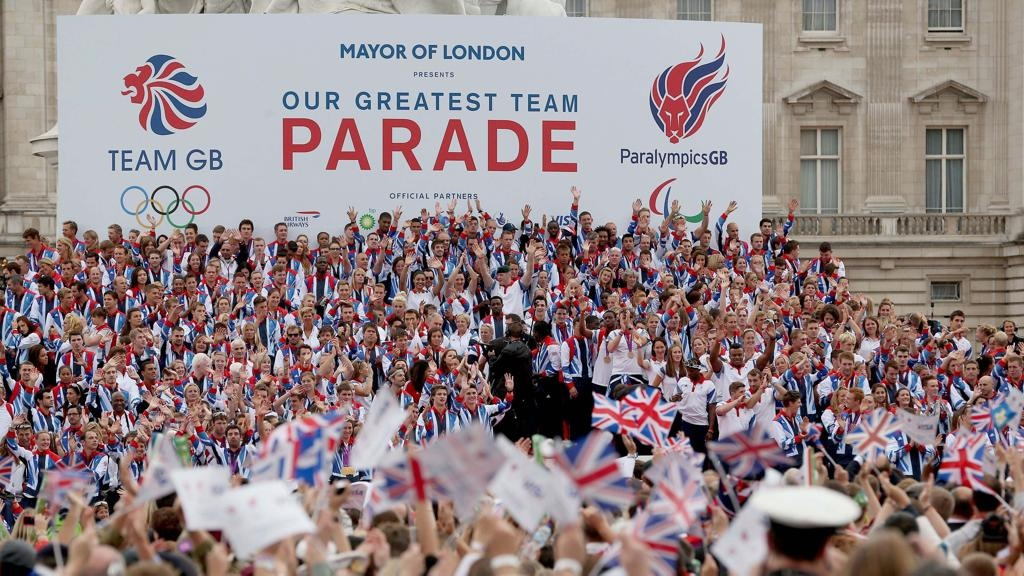human_face: (36, 433, 50, 449), (318, 356, 332, 372), (730, 349, 744, 365), (112, 394, 124, 412), (84, 430, 96, 448), (226, 428, 238, 446), (788, 398, 802, 412), (20, 364, 32, 380), (104, 367, 116, 383), (144, 362, 156, 378), (186, 384, 198, 400), (18, 428, 30, 444), (232, 342, 244, 358), (268, 290, 280, 306), (404, 312, 416, 328), (340, 421, 352, 437), (435, 388, 447, 404), (378, 216, 390, 232), (452, 272, 464, 288), (965, 362, 977, 378), (840, 358, 852, 374), (749, 373, 761, 389), (926, 379, 938, 395), (836, 388, 848, 404), (886, 367, 898, 383), (67, 408, 79, 423), (114, 351, 126, 366), (194, 336, 206, 351), (392, 300, 404, 315), (647, 315, 659, 330), (464, 387, 476, 402), (843, 338, 855, 353), (134, 332, 146, 346), (172, 363, 184, 377), (97, 506, 109, 520), (214, 418, 226, 432), (14, 259, 26, 273), (60, 263, 72, 277), (234, 277, 246, 291), (316, 257, 328, 271), (364, 326, 376, 340), (372, 309, 384, 323), (394, 360, 406, 374), (302, 375, 314, 389), (490, 298, 502, 312), (554, 308, 566, 322), (596, 231, 608, 245), (608, 251, 620, 265), (668, 313, 680, 327), (750, 257, 762, 271), (822, 312, 834, 326), (950, 316, 964, 328), (864, 319, 876, 333), (807, 322, 819, 336), (793, 358, 805, 372), (1007, 361, 1019, 375), (38, 348, 48, 364), (199, 358, 209, 374), (214, 354, 224, 370), (194, 304, 204, 320), (535, 299, 545, 315), (70, 334, 82, 347), (163, 373, 175, 386), (680, 240, 692, 253), (391, 320, 401, 335), (394, 369, 404, 384), (408, 405, 418, 420), (106, 228, 118, 240), (196, 240, 208, 252), (252, 240, 264, 252), (339, 389, 351, 401), (438, 236, 450, 248), (818, 248, 830, 260), (706, 333, 718, 345), (978, 380, 990, 392), (232, 370, 244, 382), (42, 392, 52, 406), (66, 388, 76, 402), (60, 368, 70, 382), (16, 320, 26, 334), (130, 311, 140, 325), (172, 330, 182, 344), (134, 442, 144, 456), (36, 280, 46, 294), (90, 268, 100, 282), (148, 288, 158, 302), (150, 253, 160, 267), (114, 248, 124, 262), (256, 390, 266, 404), (244, 324, 254, 338), (268, 380, 278, 394), (288, 328, 298, 342), (172, 235, 182, 249), (185, 228, 195, 242), (190, 254, 200, 268), (173, 278, 183, 292), (186, 277, 196, 291), (206, 266, 216, 280), (221, 244, 231, 258), (252, 272, 262, 286), (256, 301, 266, 315), (277, 225, 287, 239), (329, 243, 339, 257), (358, 254, 368, 268), (368, 234, 378, 248), (342, 307, 352, 321), (338, 284, 348, 298), (373, 286, 383, 300), (430, 331, 440, 345), (426, 308, 436, 322), (237, 418, 247, 432), (468, 238, 478, 252), (414, 274, 424, 288), (423, 271, 433, 285), (480, 326, 490, 340), (497, 270, 507, 284), (535, 290, 545, 304), (558, 248, 568, 262), (574, 320, 584, 334), (620, 313, 630, 327), (640, 211, 650, 225), (694, 338, 704, 352), (664, 294, 674, 308), (774, 262, 784, 276), (949, 360, 959, 374), (896, 350, 906, 364), (927, 342, 937, 356), (776, 358, 786, 372), (796, 333, 806, 347), (671, 346, 681, 360), (734, 387, 744, 401), (898, 390, 908, 404), (874, 387, 884, 401), (863, 396, 873, 410), (635, 322, 645, 336), (831, 328, 841, 342), (919, 368, 929, 382), (144, 240, 154, 253), (396, 334, 406, 347), (430, 316, 440, 329), (434, 243, 444, 256), (91, 312, 101, 324), (103, 294, 113, 306), (39, 262, 49, 274), (71, 286, 81, 298), (85, 257, 95, 269), (116, 278, 126, 290), (136, 270, 146, 282), (102, 248, 114, 258), (62, 224, 72, 236), (260, 358, 270, 370), (218, 298, 228, 310), (212, 231, 222, 243), (241, 224, 251, 236), (274, 270, 284, 282), (276, 256, 286, 268), (296, 236, 306, 248), (300, 348, 310, 360), (320, 330, 330, 342), (302, 311, 312, 323), (304, 296, 314, 308), (446, 350, 456, 362), (450, 359, 460, 371), (394, 260, 404, 272), (410, 222, 420, 234), (468, 220, 478, 232), (450, 231, 460, 243), (456, 316, 466, 328), (504, 318, 514, 330), (538, 273, 548, 285), (486, 222, 496, 234), (502, 234, 512, 246), (532, 242, 542, 254), (548, 222, 558, 234), (567, 282, 577, 294), (604, 312, 614, 324), (601, 270, 611, 282), (580, 214, 590, 226), (607, 225, 617, 237), (655, 340, 665, 352), (623, 236, 633, 248), (640, 252, 650, 264), (698, 318, 708, 330), (675, 218, 685, 230), (700, 233, 710, 245), (728, 224, 738, 236), (752, 236, 762, 248), (761, 222, 771, 234), (733, 278, 743, 290), (729, 288, 739, 300), (838, 278, 848, 290), (900, 332, 910, 344), (880, 304, 890, 316), (756, 315, 766, 327), (746, 331, 754, 346), (780, 286, 790, 298), (846, 392, 854, 407), (606, 297, 616, 309), (976, 399, 986, 411), (64, 292, 72, 306), (126, 436, 134, 450), (8, 278, 16, 292), (290, 396, 298, 410), (508, 263, 516, 277), (975, 326, 983, 340), (726, 316, 734, 330), (442, 306, 452, 317), (805, 284, 815, 295), (800, 313, 810, 324), (334, 340, 344, 351), (63, 316, 71, 329), (56, 240, 64, 253), (295, 240, 303, 253), (792, 298, 800, 311), (24, 236, 34, 246), (277, 369, 287, 379), (600, 292, 610, 302), (626, 274, 636, 284), (686, 367, 696, 377), (318, 233, 328, 243), (84, 234, 92, 246), (128, 232, 136, 244), (197, 404, 205, 416), (232, 384, 240, 396), (210, 260, 218, 272), (354, 270, 362, 282), (346, 226, 354, 238), (591, 318, 599, 330), (588, 237, 596, 249), (532, 328, 540, 340), (642, 238, 650, 250), (696, 254, 704, 266), (736, 258, 744, 270), (792, 244, 800, 256), (803, 295, 811, 307), (738, 310, 746, 322), (1004, 322, 1012, 334), (428, 358, 436, 370), (986, 358, 994, 370), (989, 338, 997, 350), (220, 315, 228, 326), (71, 263, 79, 273), (240, 268, 248, 278), (170, 302, 180, 310), (320, 248, 328, 258), (404, 243, 412, 253), (564, 268, 572, 278), (666, 276, 674, 286), (720, 268, 728, 278), (802, 362, 810, 372), (902, 316, 910, 326), (772, 315, 780, 325), (286, 248, 294, 258), (156, 286, 162, 298), (158, 236, 164, 248), (362, 362, 368, 374), (424, 364, 430, 376), (894, 320, 900, 331), (695, 296, 703, 304), (816, 304, 824, 312), (714, 258, 722, 266), (4, 268, 10, 278), (508, 228, 514, 238), (700, 285, 706, 295), (748, 274, 754, 284), (732, 242, 738, 252), (524, 222, 530, 232), (830, 262, 836, 272), (264, 426, 270, 434), (270, 417, 276, 425), (600, 322, 606, 330), (118, 340, 124, 346)
